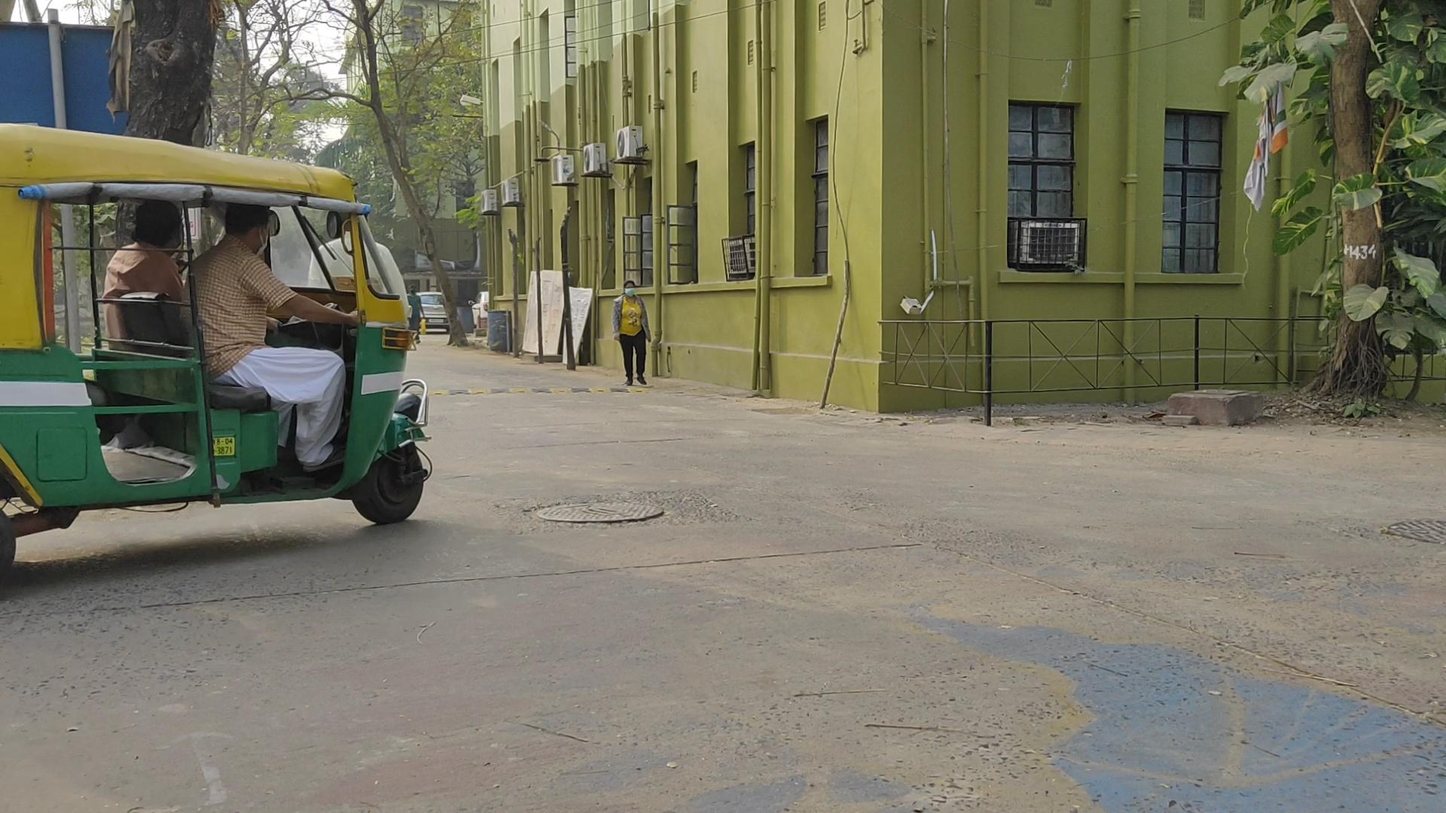Auto: (1, 124, 432, 579)
